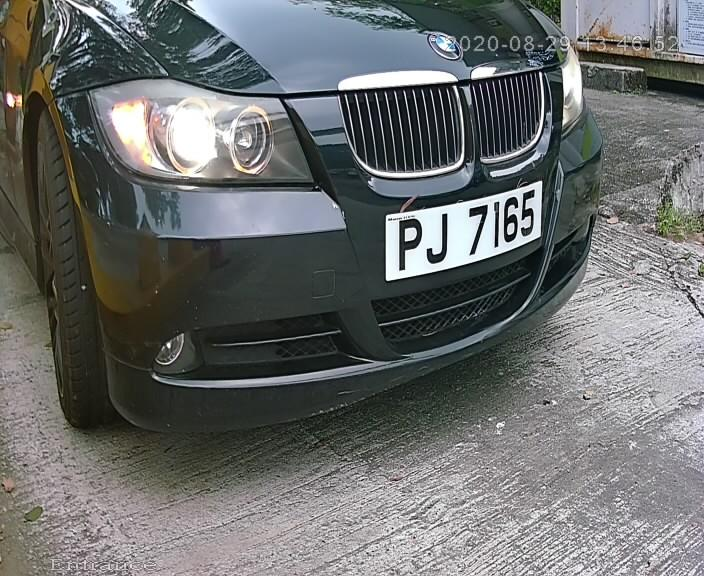Car: (29, 8, 632, 451)
License Plate: (378, 173, 551, 291)
